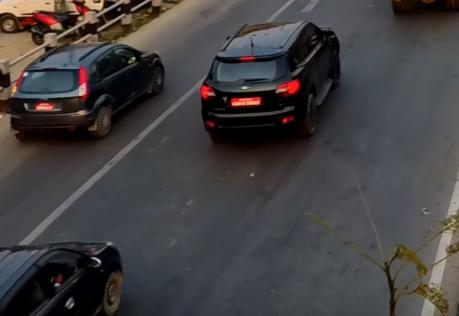car: (199, 12, 342, 150), (5, 42, 167, 145), (0, 239, 124, 316)
